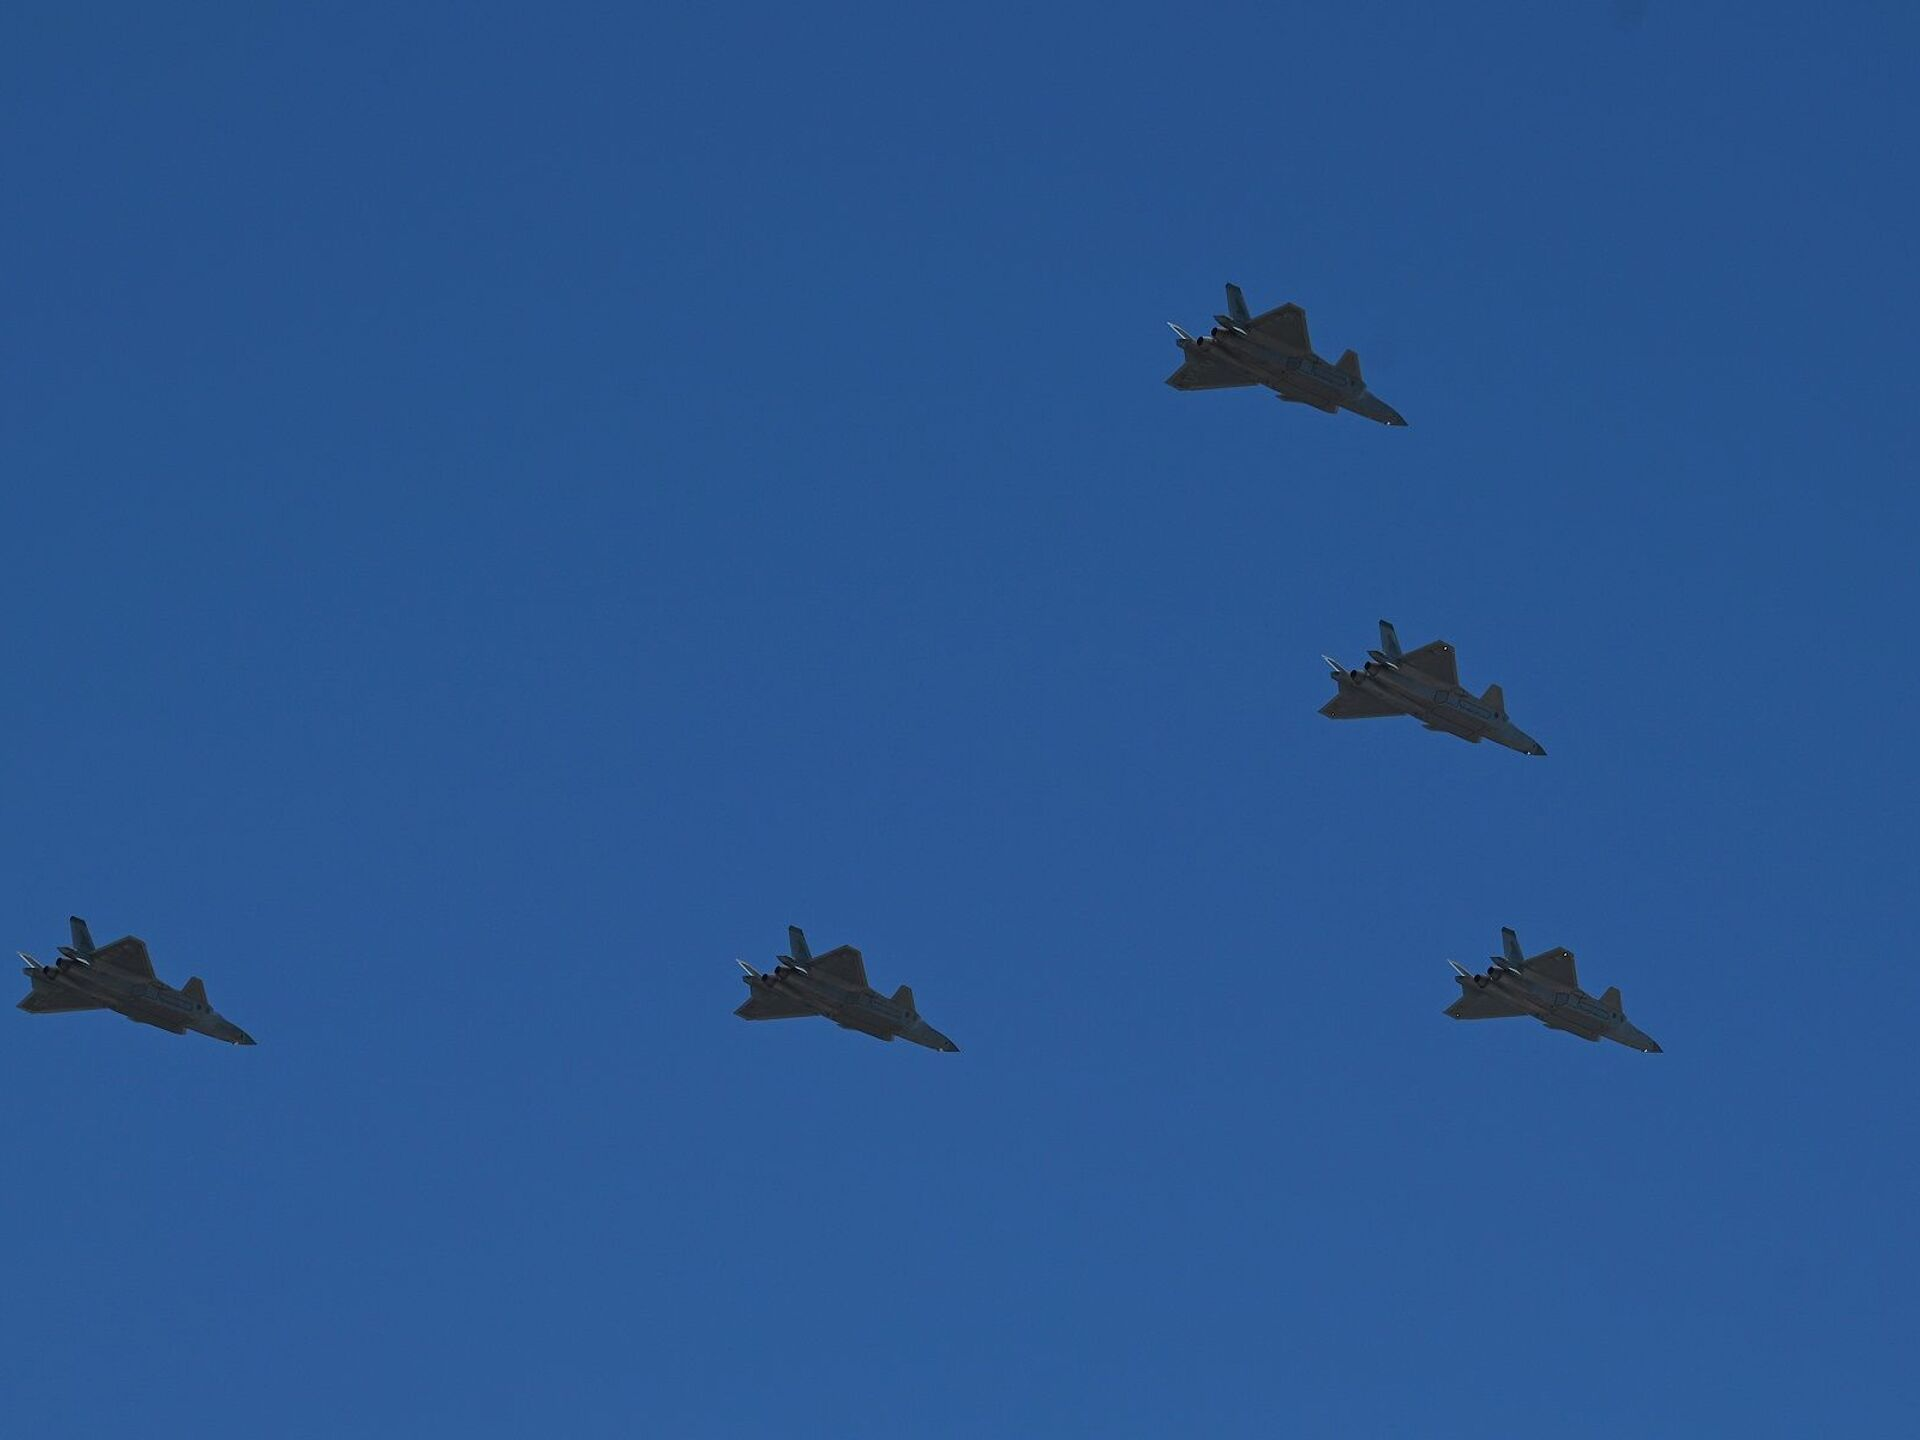J20: (1163, 281, 1411, 428), (1315, 619, 1550, 756), (14, 915, 259, 1047), (732, 924, 962, 1053), (1441, 926, 1665, 1054)
